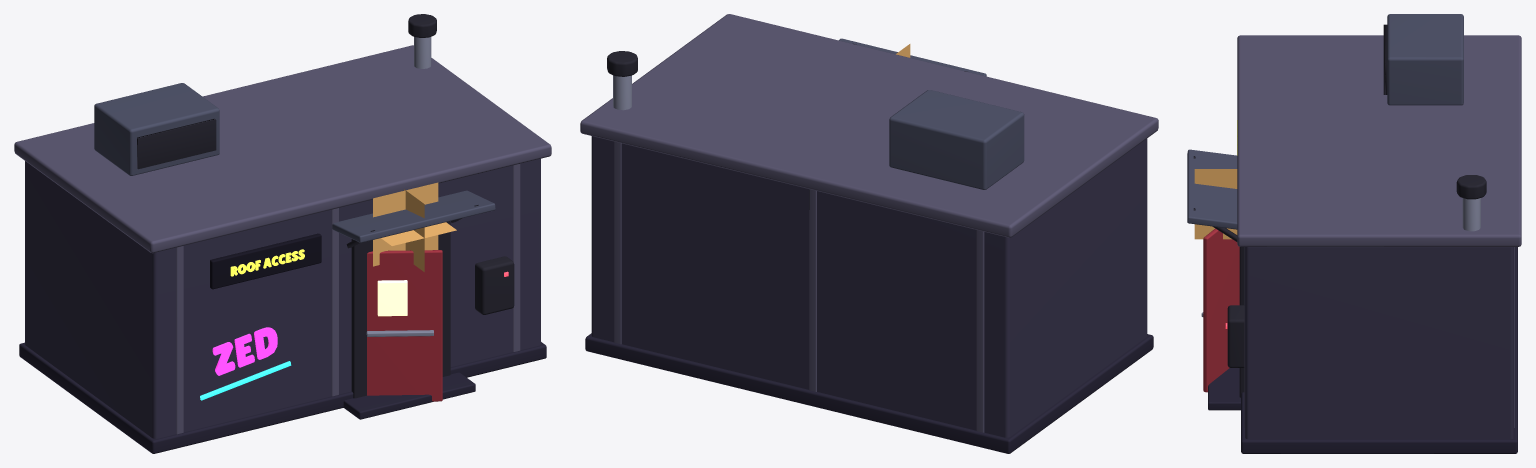
The model's file is neon_roof_door.glb.
3 renders of one model, left to right at view 1: azimuth 30°, elevation 25°; view 2: azimuth 150°, elevation 25°; view 3: azimuth 270°, elevation 25°, orthographic. The views are drawn at different scales.
Visible parts, largest first — view 1: RoofDoor; view 2: RoofDoor; view 3: RoofDoor.
Part boxes in pixels (x1,y1,x2,y2): RoofDoor: (14, 14, 551, 453); RoofDoor: (580, 14, 1158, 453); RoofDoor: (1187, 14, 1521, 453).
Size of the model in its own units: 6.2 by 3.85 by 4.35.
